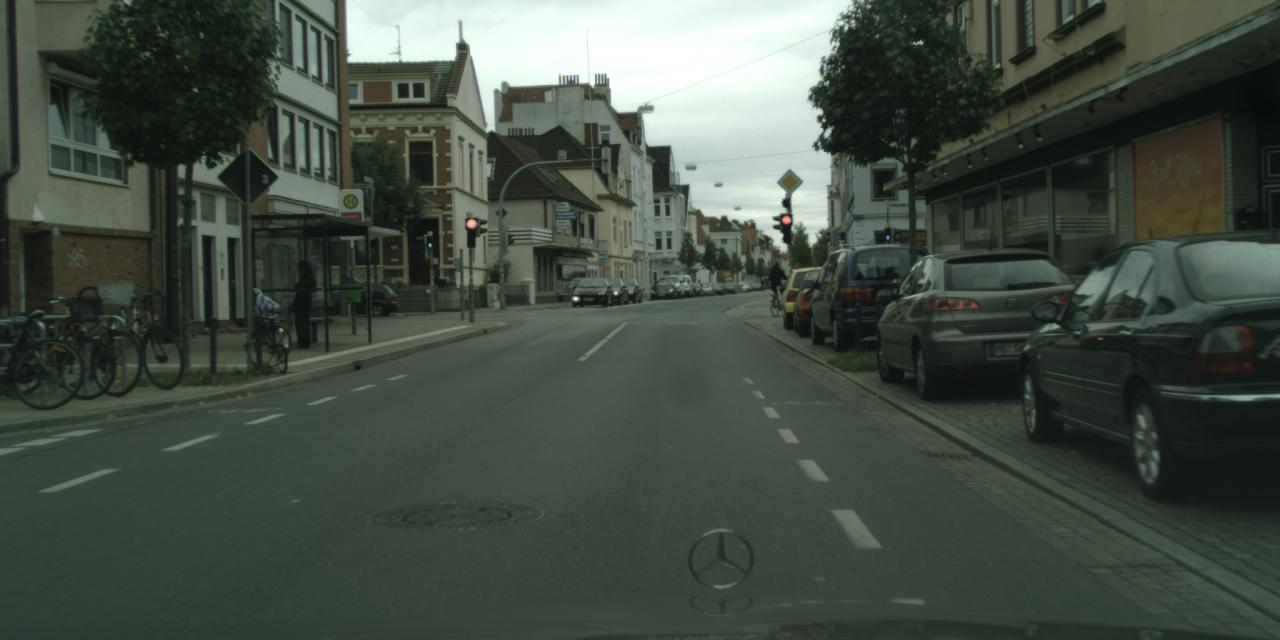ped: (286, 260, 322, 348), (768, 262, 786, 306), (696, 278, 700, 292), (760, 279, 764, 289)
